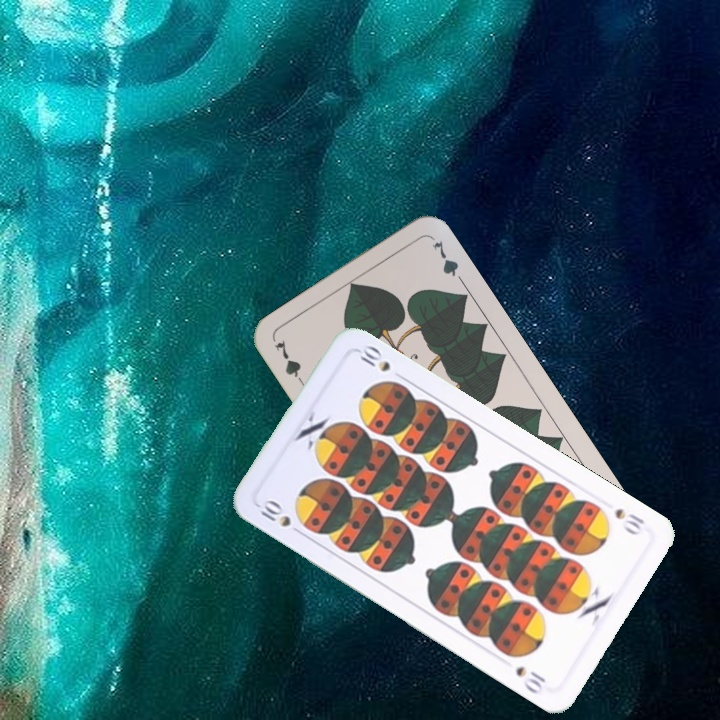G7: (270, 335, 309, 391)
S10: (254, 496, 294, 530), (610, 504, 647, 538)
